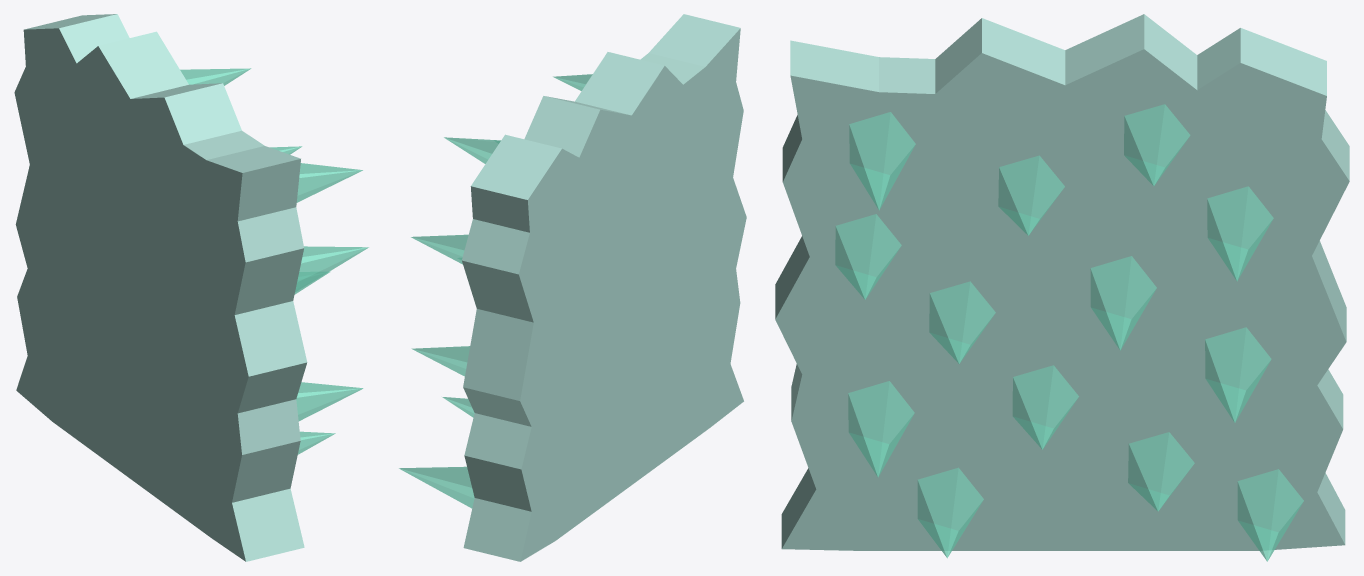
File: spikes.fixed.fbx
3 views of the same model, side by side, from view 1: azimuth 30°, elevation 25°; view 2: azimuth 150°, elevation 25°; view 3: azimuth 270°, elevation 25° (orthographic). The views are drawn at different scales.
Parts seen in each view (by area): view 1: Cube, Cone.012, Cone.009, Cone, Cone.002; view 2: Cube, Cone.011, Cone.005, Cone.003, Cone.002; view 3: Cube, Cone, Cone.009, Cone.005, Cone.003, Cone.004, Cone.011, Cone.010, Cone.012, Cone.007, Cone.008, Cone.002 (+2 smaller).
Part boxes in pixels (x1,y1,x2,y2): Cube: (14,14,307,561); Cone.012: (295,246,368,292); Cone.009: (296,382,363,421); Cone: (296,163,362,202); Cone.002: (180,68,251,85); Cube: (462,14,746,561); Cone.011: (399,466,474,508); Cone.005: (411,346,470,376); Cone.003: (411,234,468,264); Cone.002: (444,137,500,163); Cube: (775,14,1349,550); Cone: (849,112,915,210); Cone.009: (848,381,914,477); Cone.005: (1205,327,1271,422); Cone.003: (1207,186,1273,281); Cone.004: (1090,256,1156,350); Cone.011: (1237,469,1303,561); Cone.010: (917,467,983,558); Cone.012: (835,214,901,299); Cone.007: (1012,365,1078,449); Cone.008: (929,281,995,363); Cone.002: (1124,104,1190,185).
Bounding box in the file's own units: 85.9 × 213 × 221.
